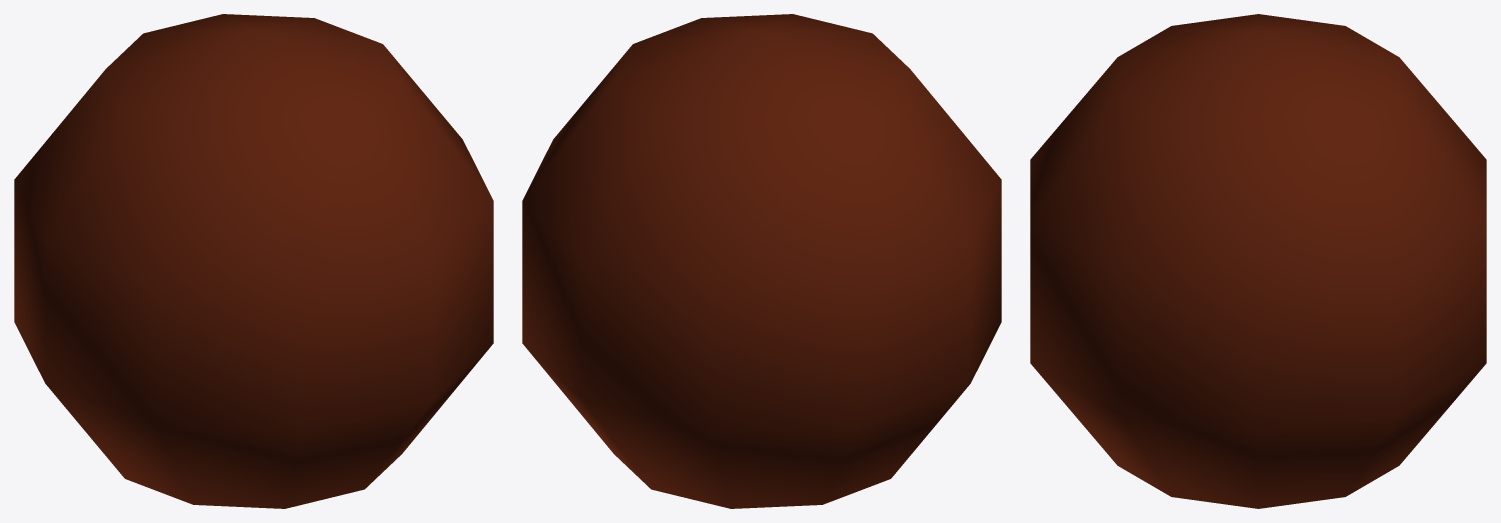
Rendered from Asteroid.fbx.
3 renders of one model, left to right at view 1: azimuth 30°, elevation 25°; view 2: azimuth 150°, elevation 25°; view 3: azimuth 270°, elevation 25°, orthographic.
Visible parts, largest first — view 1: Kugel; view 2: Kugel; view 3: Kugel.
Boxes of the visible parts, x1,y1,x2,y2 form: Kugel: (14,14,493,508); Kugel: (522,14,1001,508); Kugel: (1030,14,1486,508).
Bounding box in the file's own units: 190 × 200 × 181.
